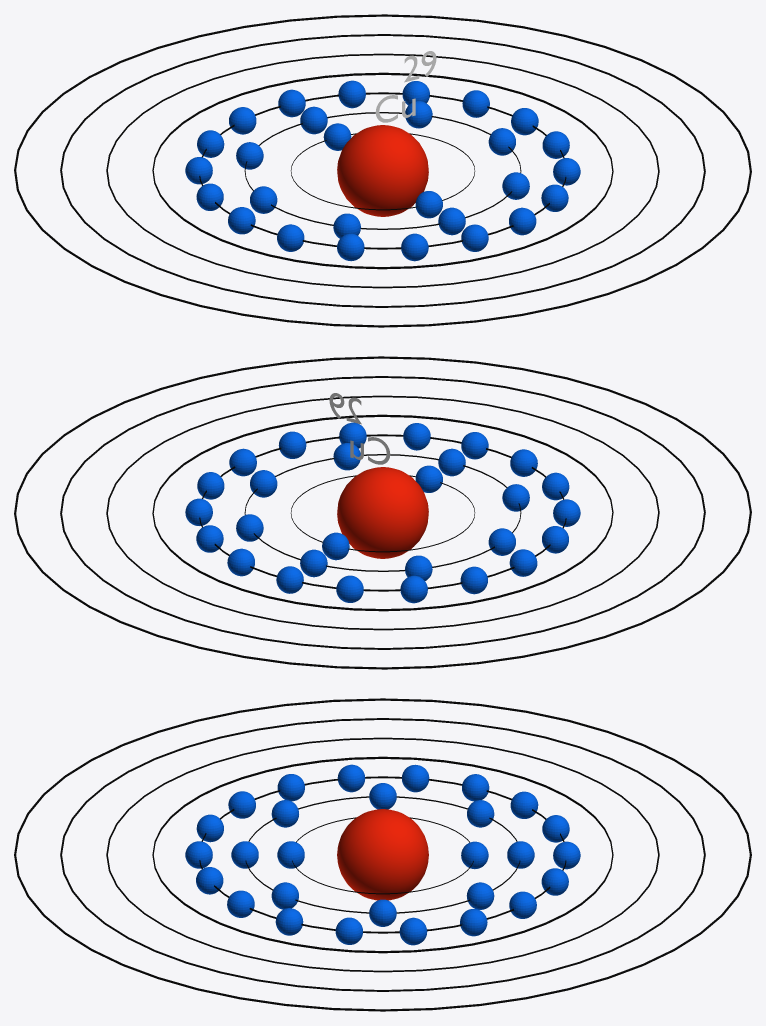
The picture shows the model from 3 angles, top to bottom: view 1: azimuth 30°, elevation 25°; view 2: azimuth 150°, elevation 25°; view 3: azimuth 270°, elevation 25°; orthographic projection.
Parts seen in each view (by area): view 1: Cu3, Proton, n7, Cu2, n6, n5, n4, Cu1, n3, n2; view 2: Cu3, Proton, n7, Cu2, n6, n5, n4, Cu1, n3, n2; view 3: Cu3, Proton, Cu2, n7, n6, n5, n4, Cu1, n3, n2, n1.
Boxes of the visible parts, box(x1,y1,x2,y2) form: Cu3: box(185, 80, 580, 261); Proton: box(337, 125, 428, 216); n7: box(14, 14, 751, 327); Cu2: box(236, 101, 529, 238); n6: box(60, 34, 705, 307); n5: box(106, 53, 659, 288); n4: box(152, 72, 613, 269); Cu1: box(323, 123, 442, 218); n3: box(199, 92, 566, 249); n2: box(244, 112, 521, 229); Cu3: box(185, 422, 580, 603); Proton: box(337, 467, 428, 558); n7: box(14, 356, 751, 669); Cu2: box(236, 443, 529, 580); n6: box(60, 376, 705, 649); n5: box(106, 395, 659, 630); n4: box(152, 414, 613, 611); Cu1: box(322, 465, 442, 560); n3: box(199, 434, 566, 591); n2: box(244, 454, 521, 571); Cu3: box(185, 764, 580, 945); Proton: box(337, 809, 428, 900); Cu2: box(231, 783, 534, 926); n7: box(14, 698, 751, 1011); n6: box(60, 718, 705, 991); n5: box(106, 737, 659, 972); n4: box(152, 756, 613, 953); Cu1: box(277, 841, 488, 869); n3: box(199, 776, 566, 933); n2: box(245, 796, 520, 913); n1: box(292, 817, 473, 894).
Size of the model in its own units: 802 by 180 by 802.
